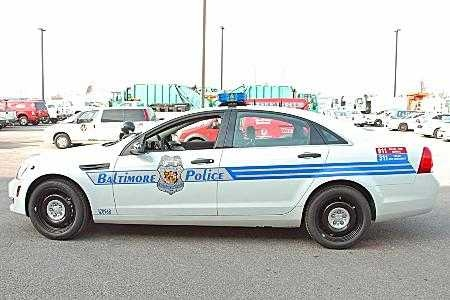Police Car: (25, 99, 450, 268)
